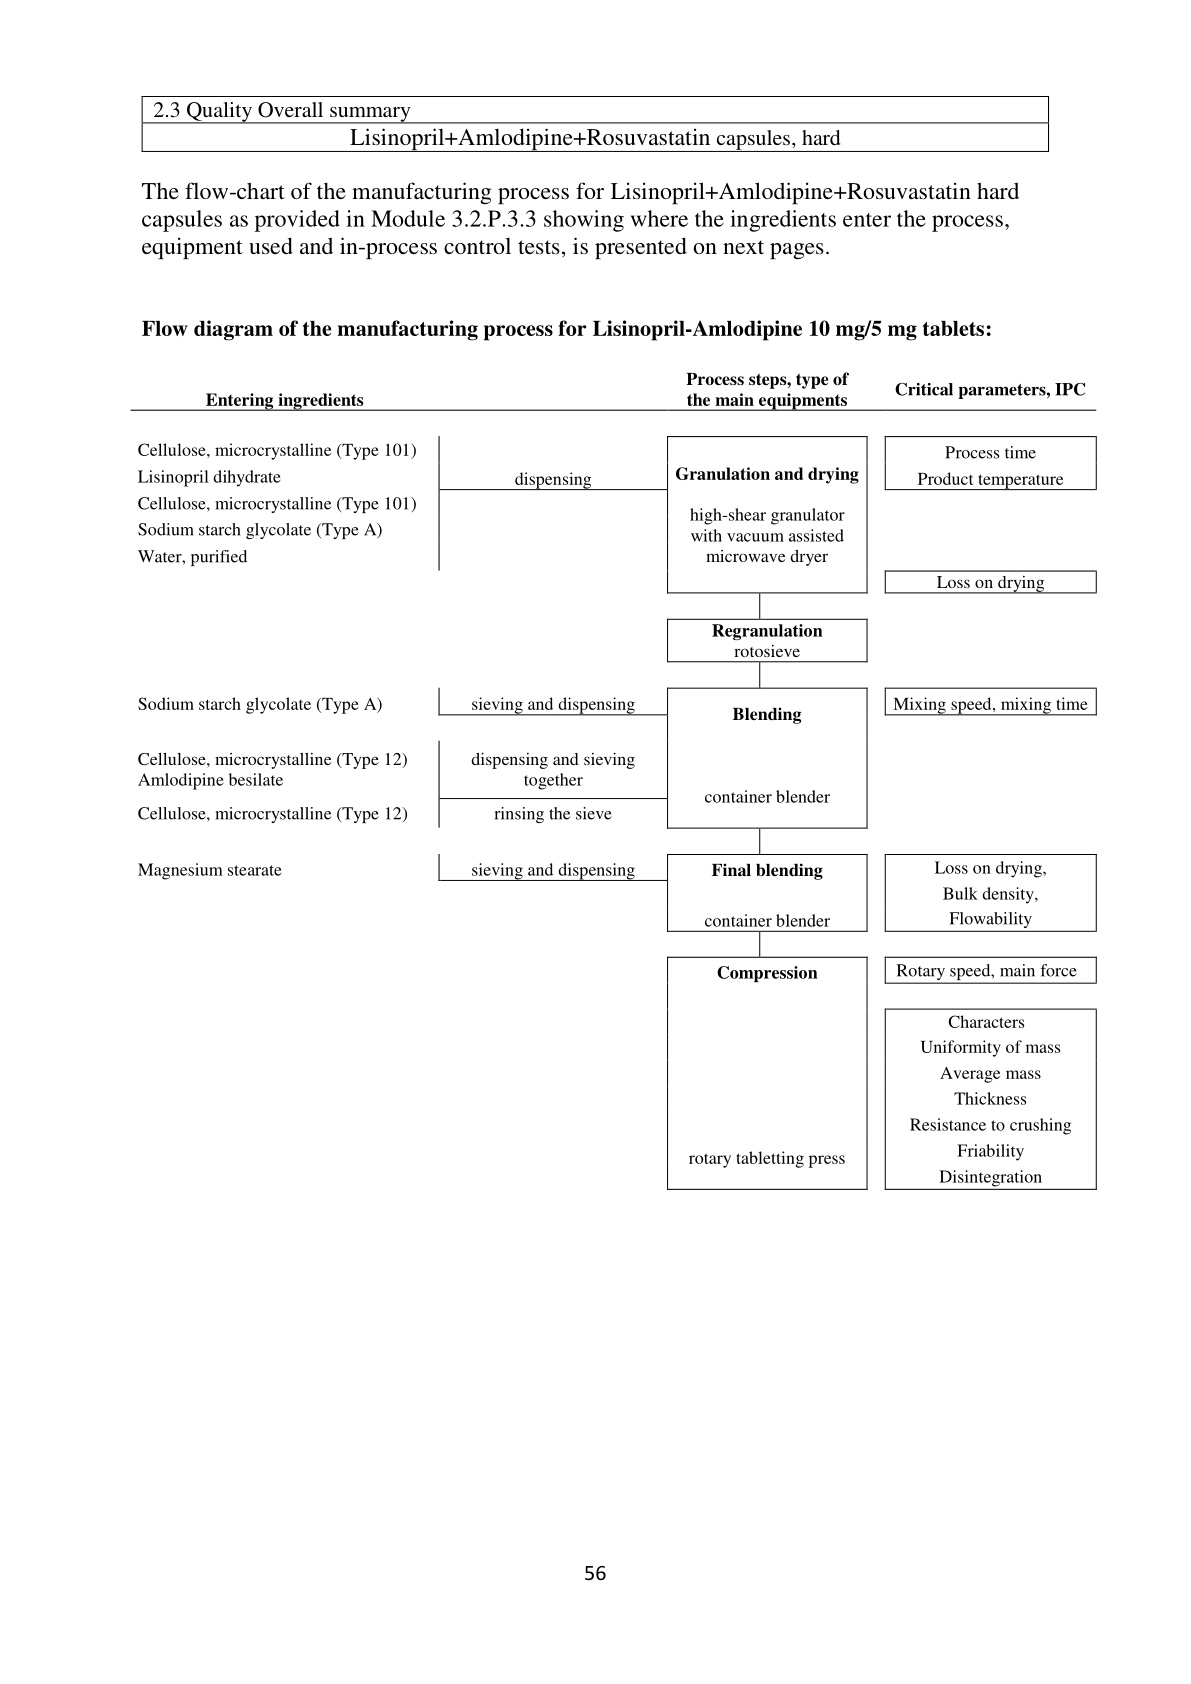full_lined: (140, 97, 1049, 152)
